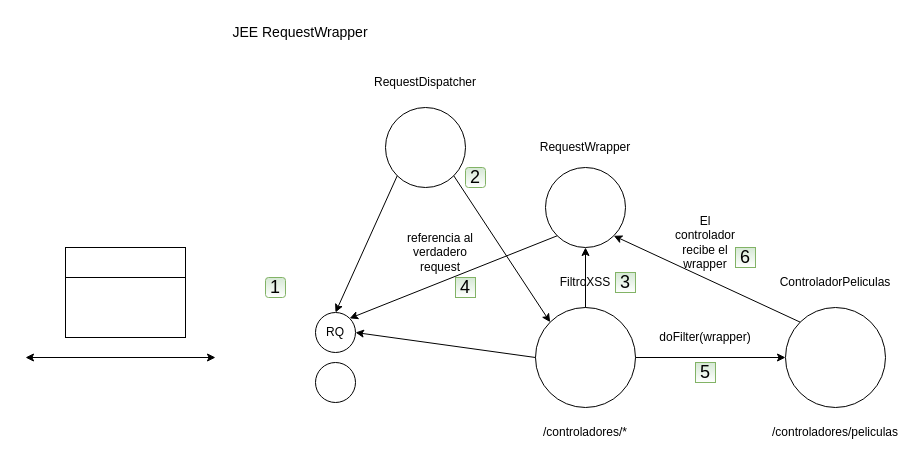
This 916x464 diagram has some shape labels left out. The centre of each missing label's shape, as x and y in pixels:
DATOS + INYECCION JS: point 125,307
filtro: point 585,357
POST /controladores/clientes: point 125,262
RP: point 335,382
